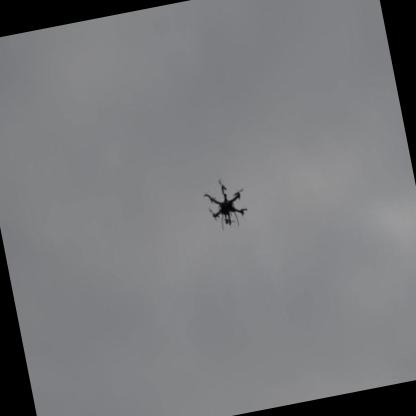drone: (200, 174, 251, 233)
